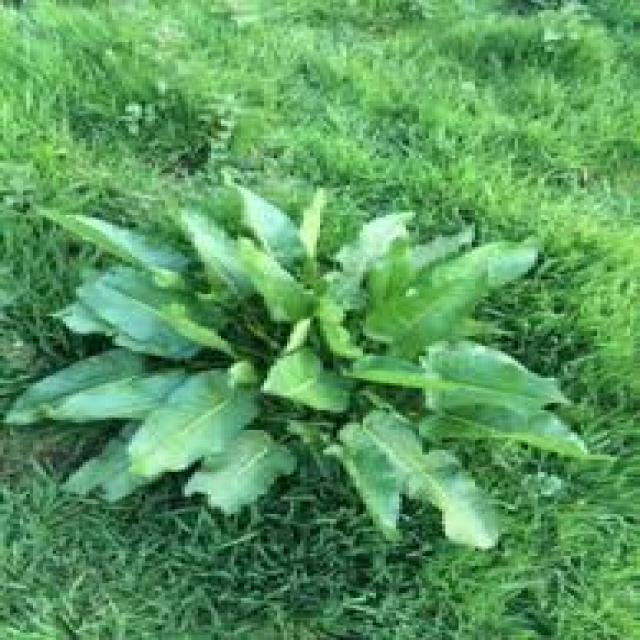organic waste: (20, 190, 610, 566)
